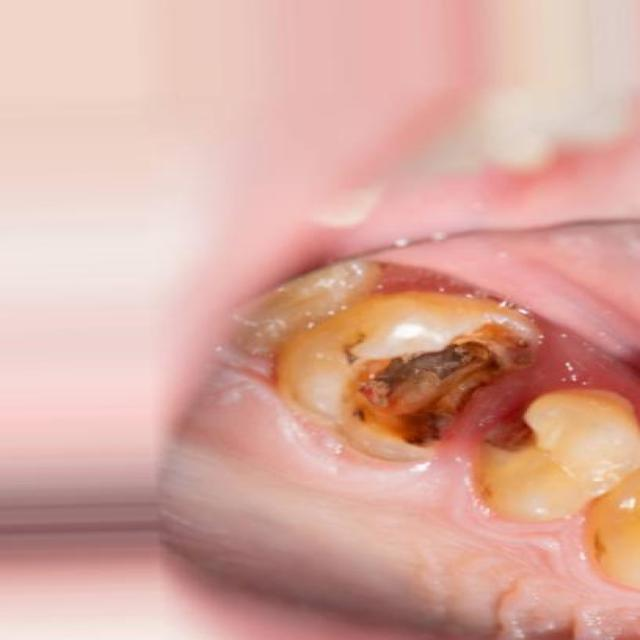caries: (296, 302, 556, 464)
